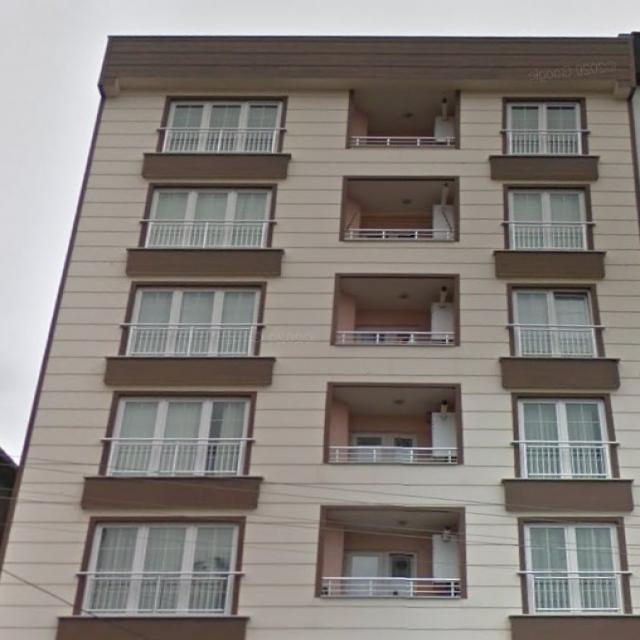Building: (0, 32, 640, 640)
